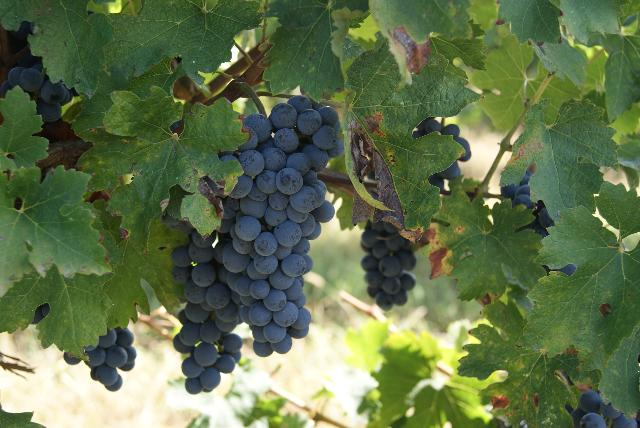grapes: (220, 95, 344, 356)
